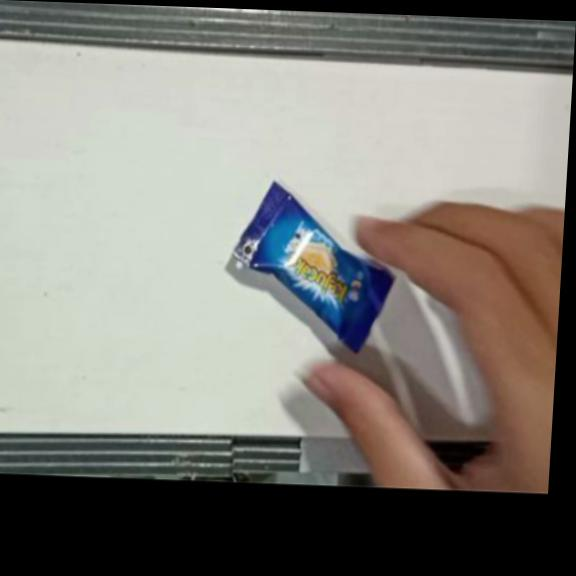Plastik: (226, 181, 402, 355)
